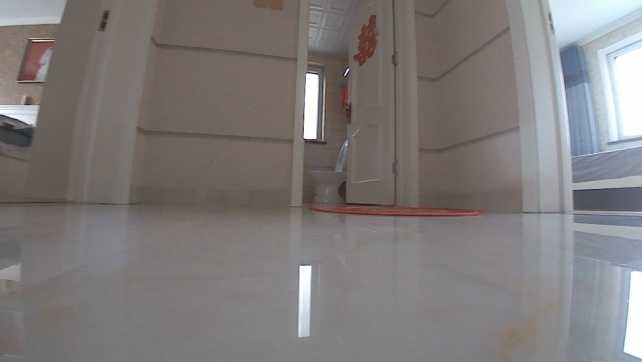bed1: (568, 144, 641, 191)
blanket: (306, 205, 482, 216)
door_anno: (343, 0, 420, 209)
toilet: (307, 136, 348, 207)
